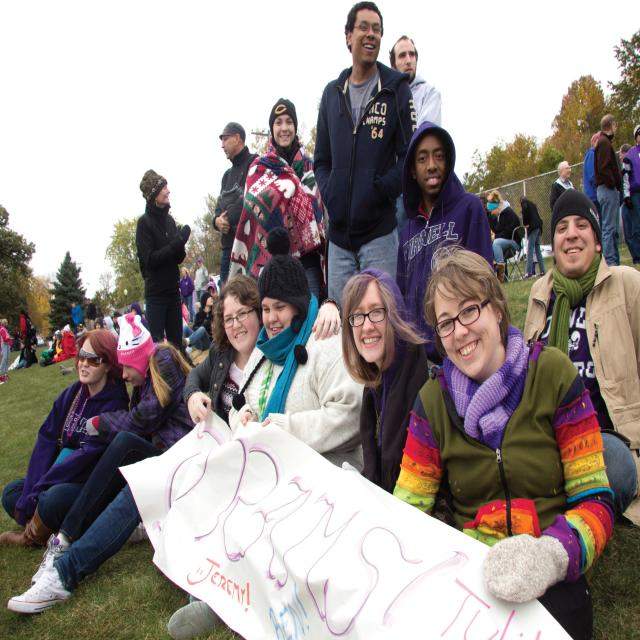body: (5, 271, 344, 620), (391, 240, 617, 640), (30, 312, 196, 587), (522, 187, 640, 526), (314, 0, 419, 302), (338, 267, 456, 530), (228, 253, 366, 476), (0, 325, 134, 552), (392, 121, 497, 370), (224, 96, 328, 310), (135, 167, 193, 358), (211, 121, 261, 292), (389, 34, 443, 136), (592, 114, 624, 267), (487, 189, 522, 284), (620, 123, 640, 265), (518, 195, 546, 280), (180, 291, 215, 353), (582, 132, 602, 234), (619, 143, 636, 260), (39, 323, 79, 368), (156, 307, 189, 349), (550, 161, 576, 214), (18, 308, 36, 370), (195, 276, 220, 314), (0, 317, 15, 380), (179, 266, 194, 324), (13, 340, 39, 371), (193, 257, 209, 302), (40, 330, 60, 362), (130, 301, 149, 333), (23, 315, 33, 365), (71, 301, 83, 340), (102, 316, 120, 341), (48, 331, 63, 359), (85, 298, 97, 331), (478, 191, 491, 217), (205, 281, 219, 304), (180, 295, 190, 326), (112, 310, 122, 336), (532, 245, 540, 277), (76, 323, 88, 341), (97, 306, 104, 330), (74, 324, 81, 345), (14, 329, 20, 352), (94, 316, 104, 329), (48, 335, 56, 350), (140, 309, 148, 322), (206, 273, 214, 284), (82, 297, 88, 310), (216, 278, 222, 291), (40, 334, 46, 346), (124, 308, 131, 314), (60, 328, 65, 336)
